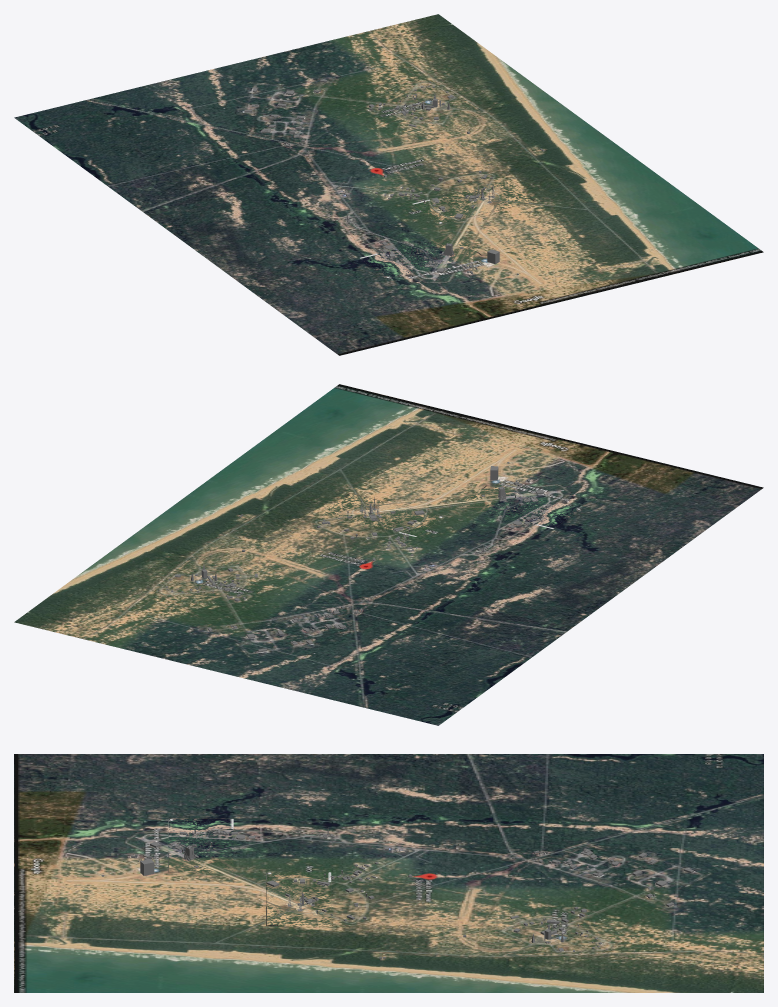
Rendered from nasa all.fbx.
3 renders of one model, top to bottom at view 1: azimuth 30°, elevation 25°; view 2: azimuth 150°, elevation 25°; view 3: azimuth 270°, elevation 25°, orthographic. The views are drawn at different scales.
Visible parts, largest first — view 1: Plane001, Plane007, Plane003; view 2: Plane001, Plane007, Plane003; view 3: Plane001, Plane007, Plane003.
Part boxes in pixels (<box>): Plane001: <box>14,14,763,355</box>; Plane007: <box>359,234,482,278</box>; Plane003: <box>412,180,535,224</box>; Plane001: <box>14,384,763,725</box>; Plane007: <box>458,485,581,529</box>; Plane003: <box>320,493,444,536</box>; Plane001: <box>14,754,763,992</box>; Plane007: <box>168,818,233,872</box>; Plane003: <box>266,872,331,925</box>.
Bounding box in the file's own units: 329832 × 437870 × 9510.
